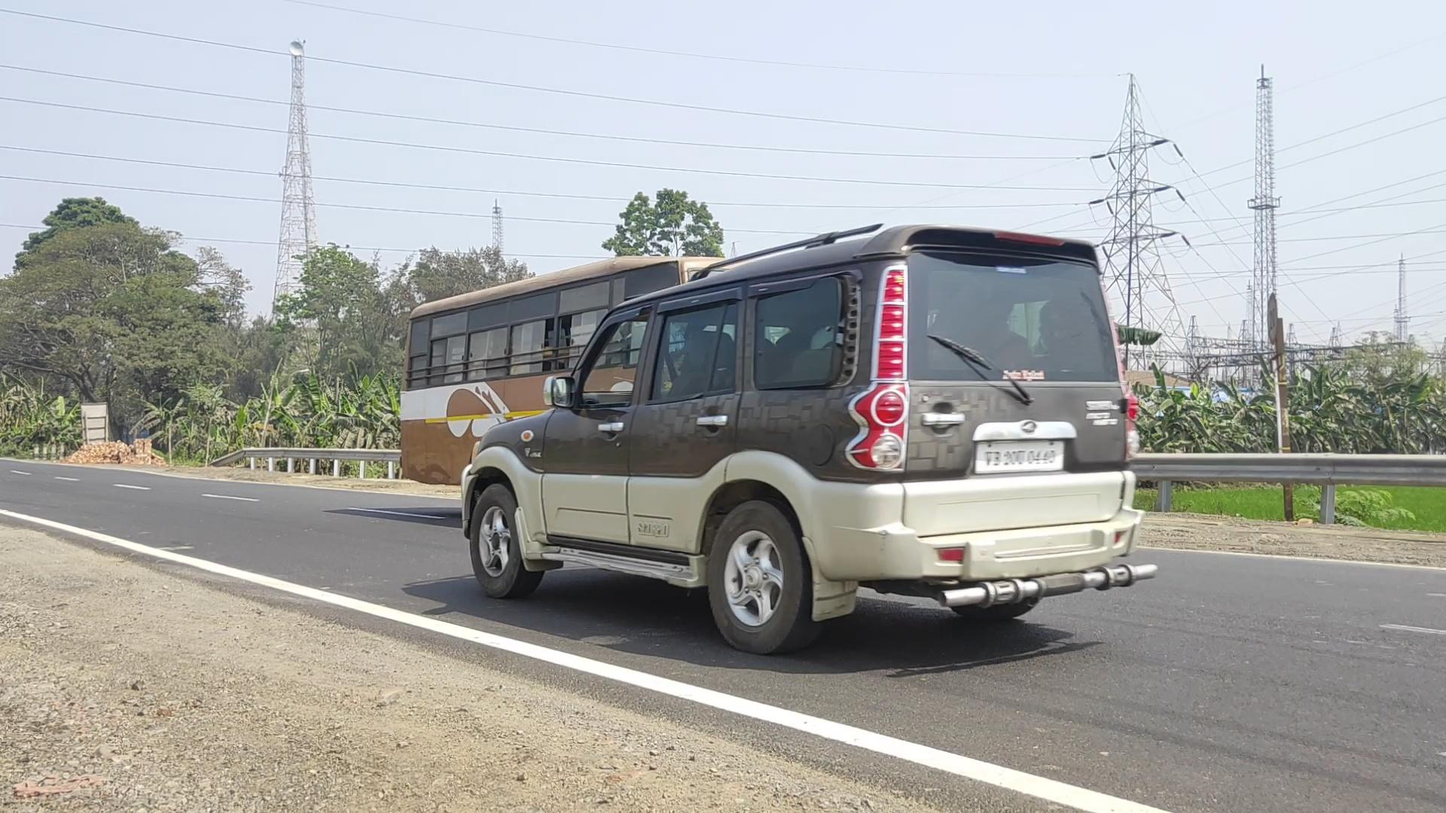Bus: (398, 253, 810, 519)
car: (460, 223, 1158, 657)
